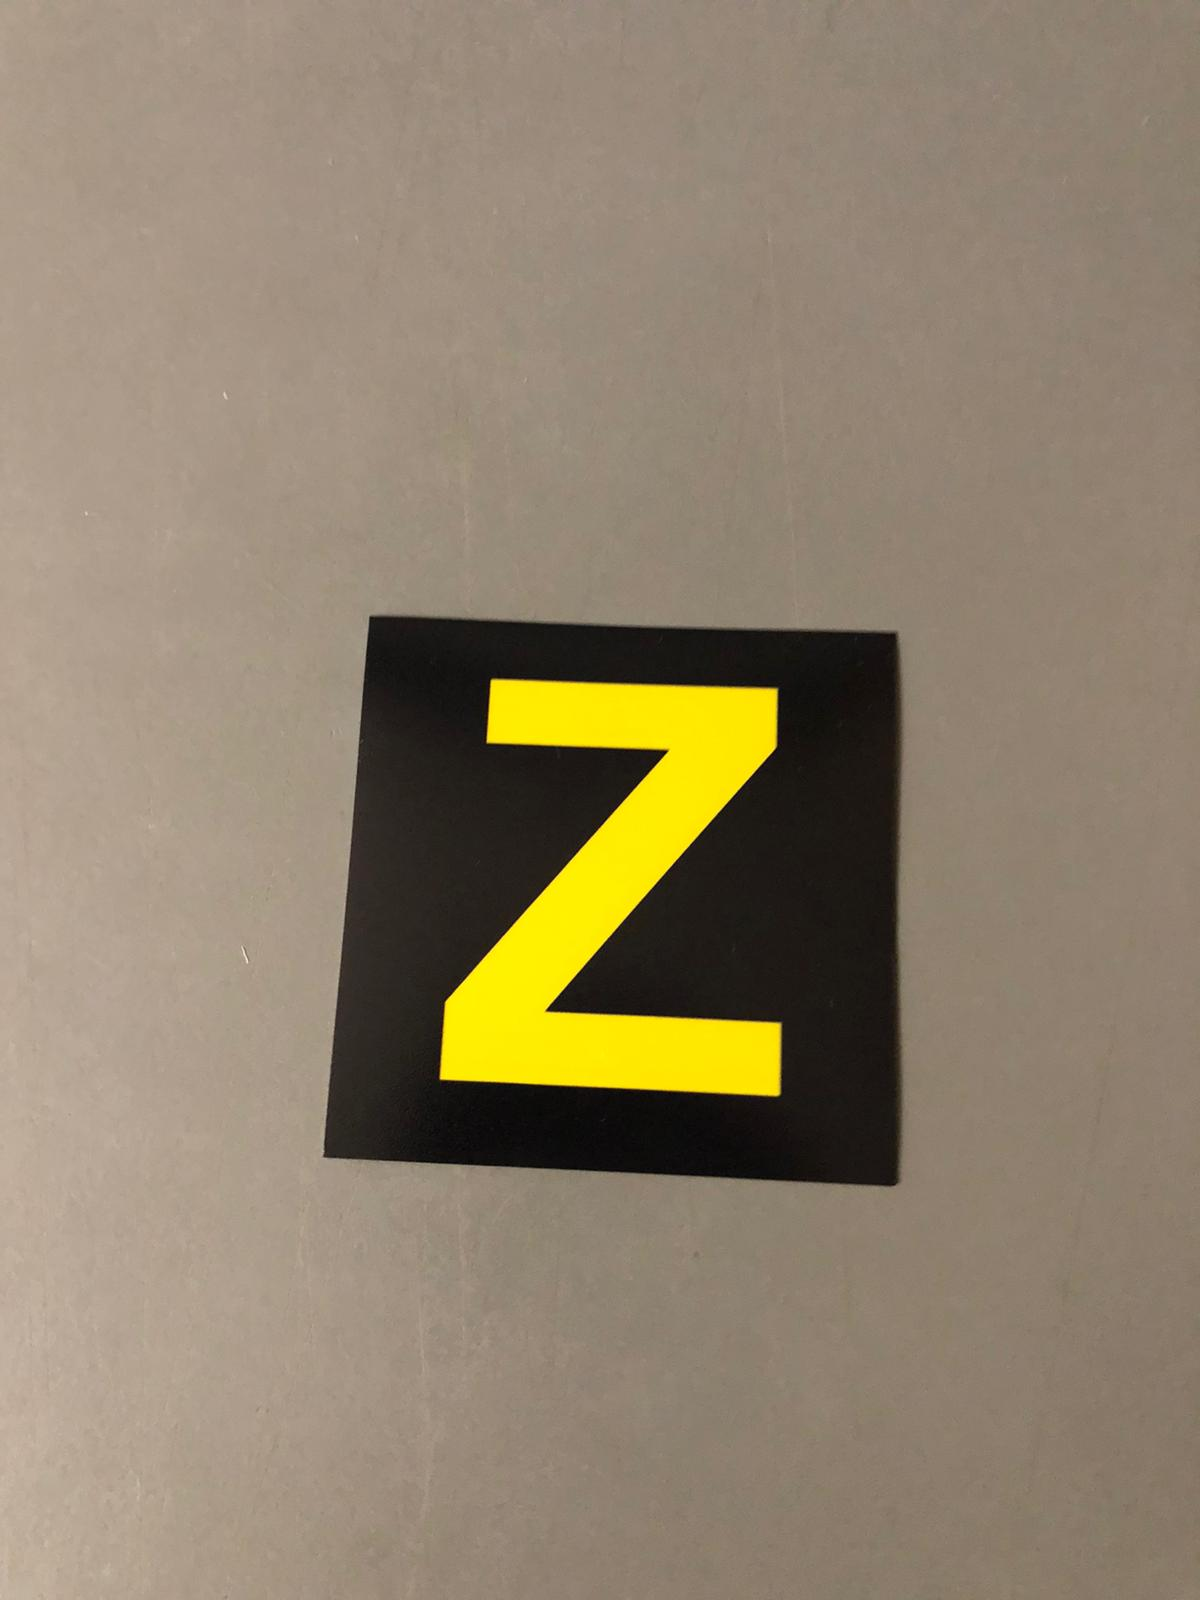Z: (366, 629, 876, 1153)
